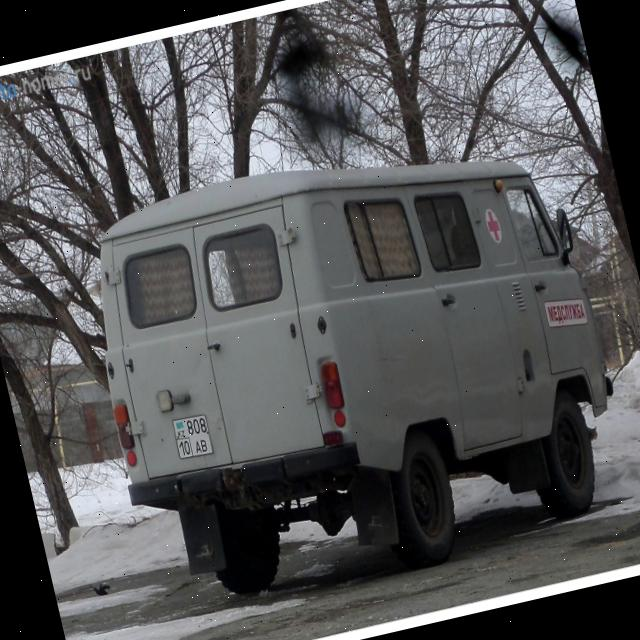License-plate: (170, 414, 213, 461)
